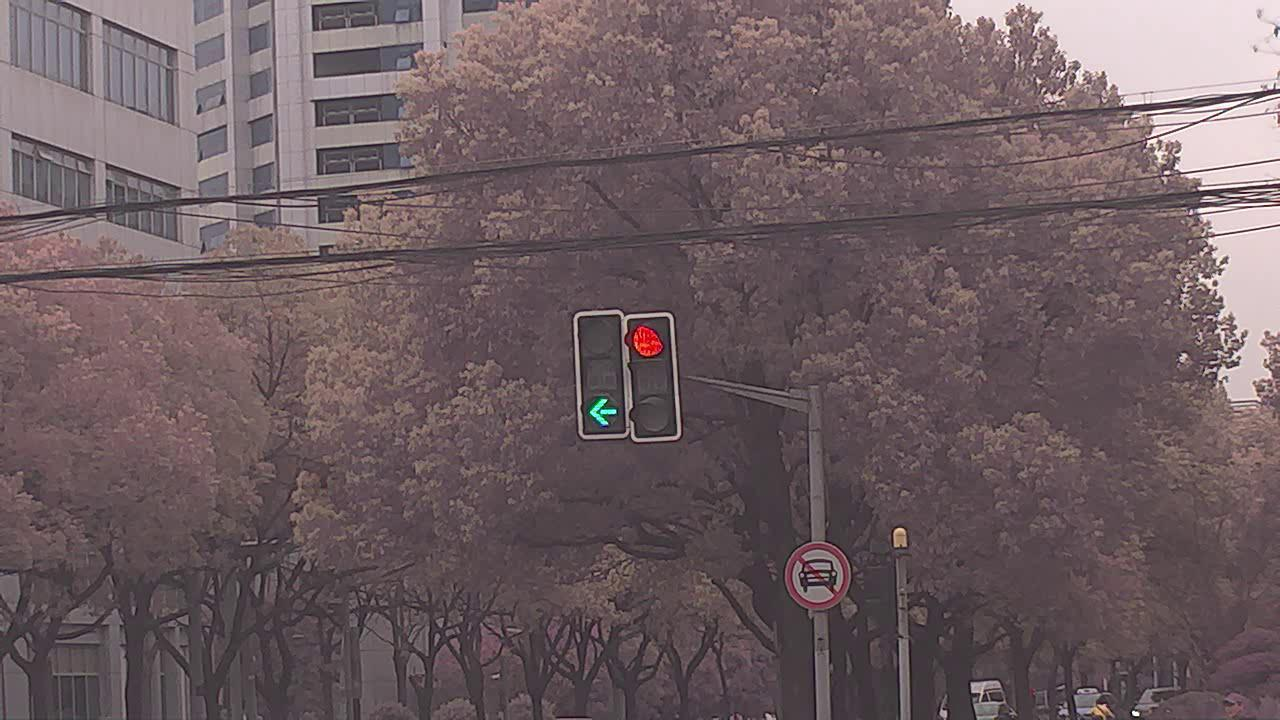traffic_light: (623, 311, 682, 438), (573, 311, 625, 442)
